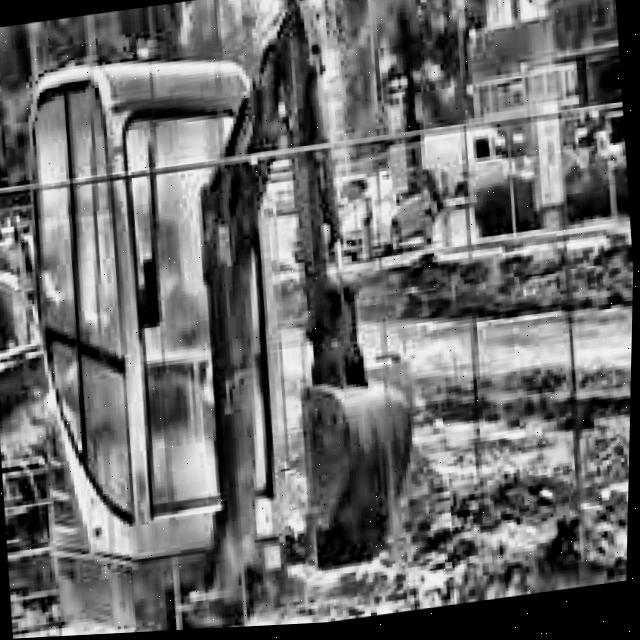excavator: (0, 0, 437, 640)
